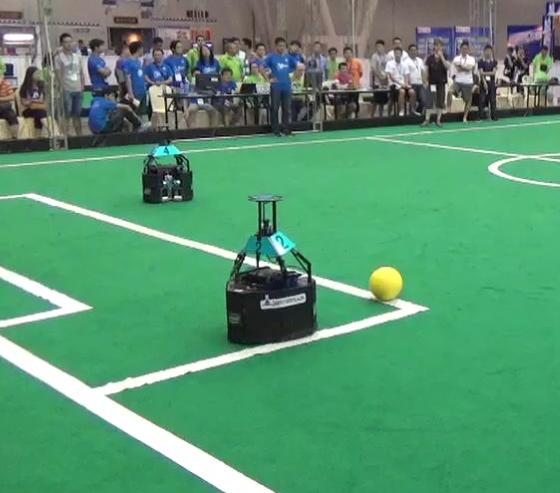robot: (218, 192, 328, 347), (138, 124, 197, 205)
